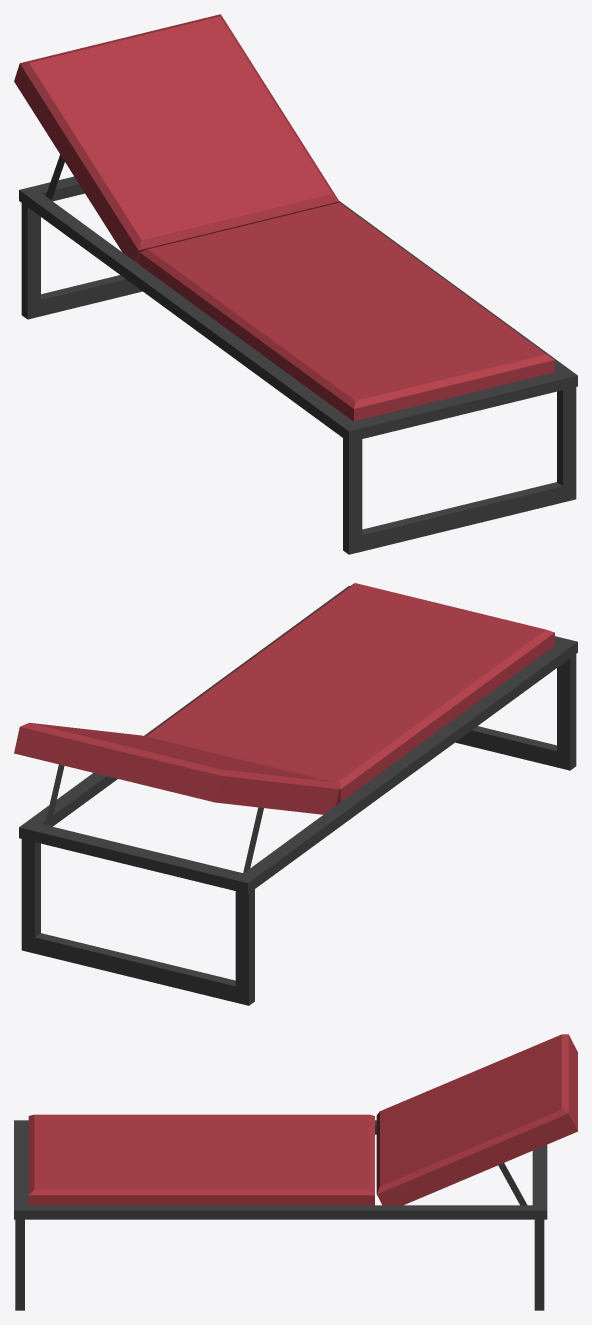
File: Chaise_Longue_Red_vc.fbx
3 renders of one model, top to bottom at view 1: azimuth 30°, elevation 25°; view 2: azimuth 150°, elevation 25°; view 3: azimuth 270°, elevation 25°, orthographic. The views are drawn at different scales.
Parts seen in each view (by area): view 1: Chaise_Longue_Red_vc; view 2: Chaise_Longue_Red_vc; view 3: Chaise_Longue_Red_vc.
Boxes of the visible parts, box(x1,y1,x2,y2) form: Chaise_Longue_Red_vc: box(14, 14, 577, 554); Chaise_Longue_Red_vc: box(14, 583, 577, 1005); Chaise_Longue_Red_vc: box(14, 1034, 577, 1310).
Size of the model in its own units: 202 by 202 by 532.
